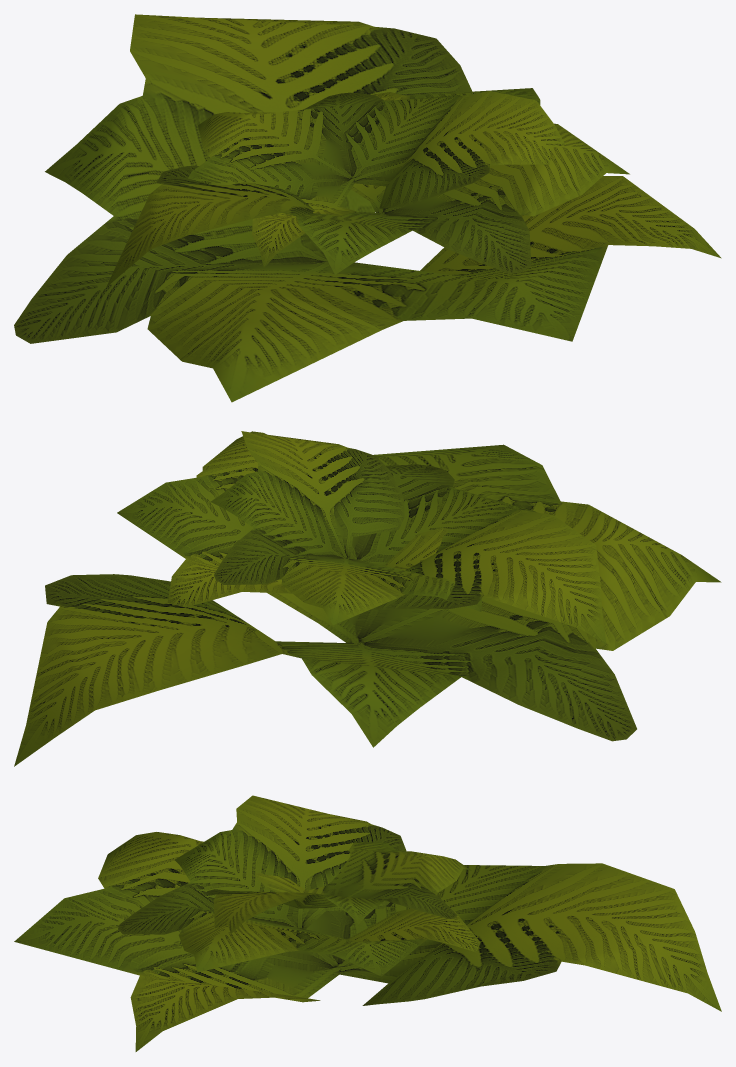
The model's file is helecho.obj.
3 views of the same model, one above another, from view 1: azimuth 30°, elevation 25°; view 2: azimuth 150°, elevation 25°; view 3: azimuth 270°, elevation 25° (orthographic). The views are drawn at different scales.
Parts seen in each view (by area): view 1: Fern_Plant_Preview__FREE_Model1_Fern_Plant_Preview__FREE_Model1; view 2: Fern_Plant_Preview__FREE_Model1_Fern_Plant_Preview__FREE_Model1; view 3: Fern_Plant_Preview__FREE_Model1_Fern_Plant_Preview__FREE_Model1.
Part boxes in pixels (left/top/right/bottom): Fern_Plant_Preview__FREE_Model1_Fern_Plant_Preview__FREE_Model1: left=14, top=14, right=721, bottom=402; Fern_Plant_Preview__FREE_Model1_Fern_Plant_Preview__FREE_Model1: left=14, top=431, right=721, bottom=766; Fern_Plant_Preview__FREE_Model1_Fern_Plant_Preview__FREE_Model1: left=14, top=795, right=721, bottom=1051.
Bounding box in the file's own units: 15.52 × 4.39 × 20.33.
